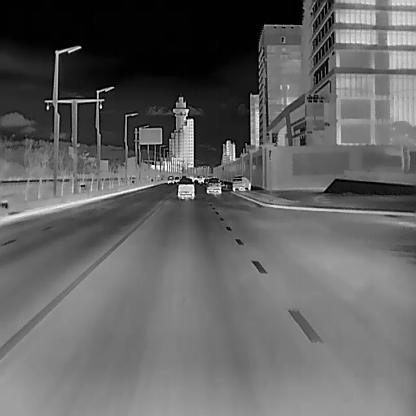car: (177, 178, 195, 198), (231, 175, 251, 191), (206, 177, 221, 194), (167, 175, 173, 182)
